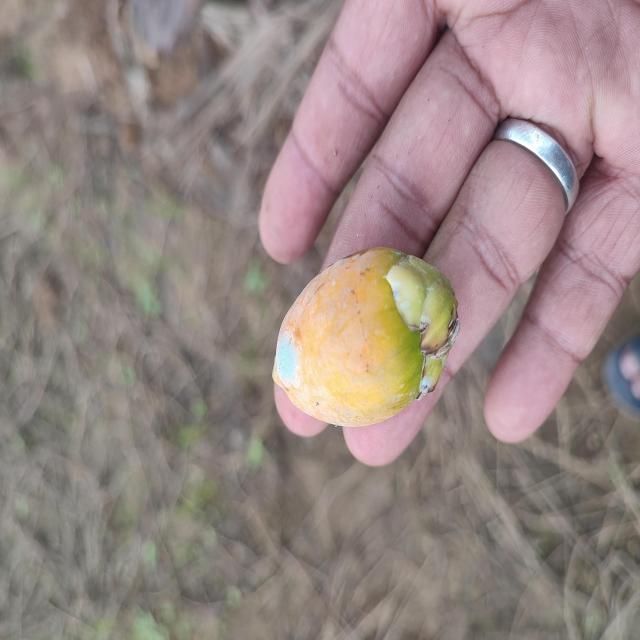good: (267, 248, 456, 426)
